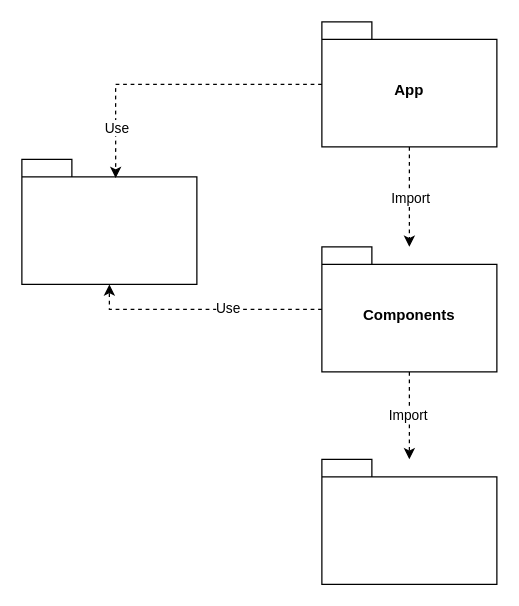
This 519x606 diagram has some shape labels left out. The centre of each missing label's shape, as x and y in pixels:
"Hooks" belongs at [409,521].
"Lib" belongs at [109,221].
